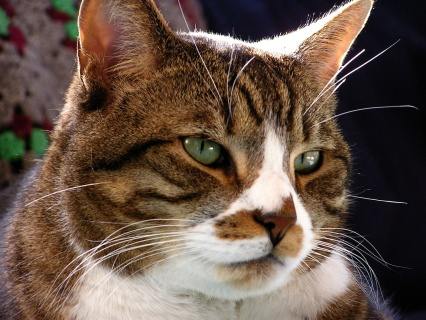Cat: (0, 0, 419, 319)
